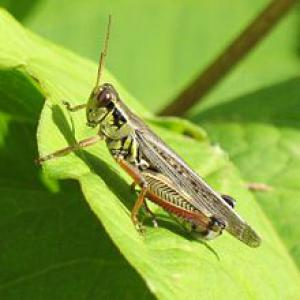locust: (62, 35, 260, 253)
